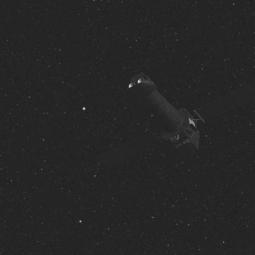xmm_newton: (115, 71, 226, 164)
